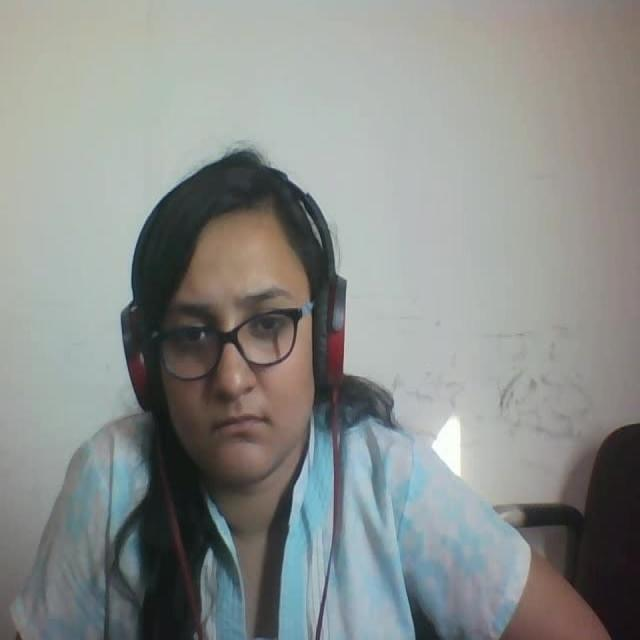Engaged: (107, 149, 373, 503)
